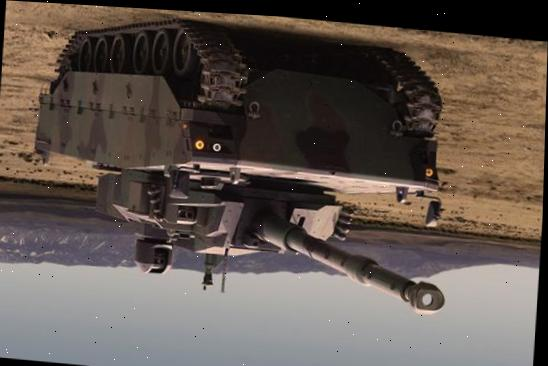tank: (19, 2, 468, 320)
